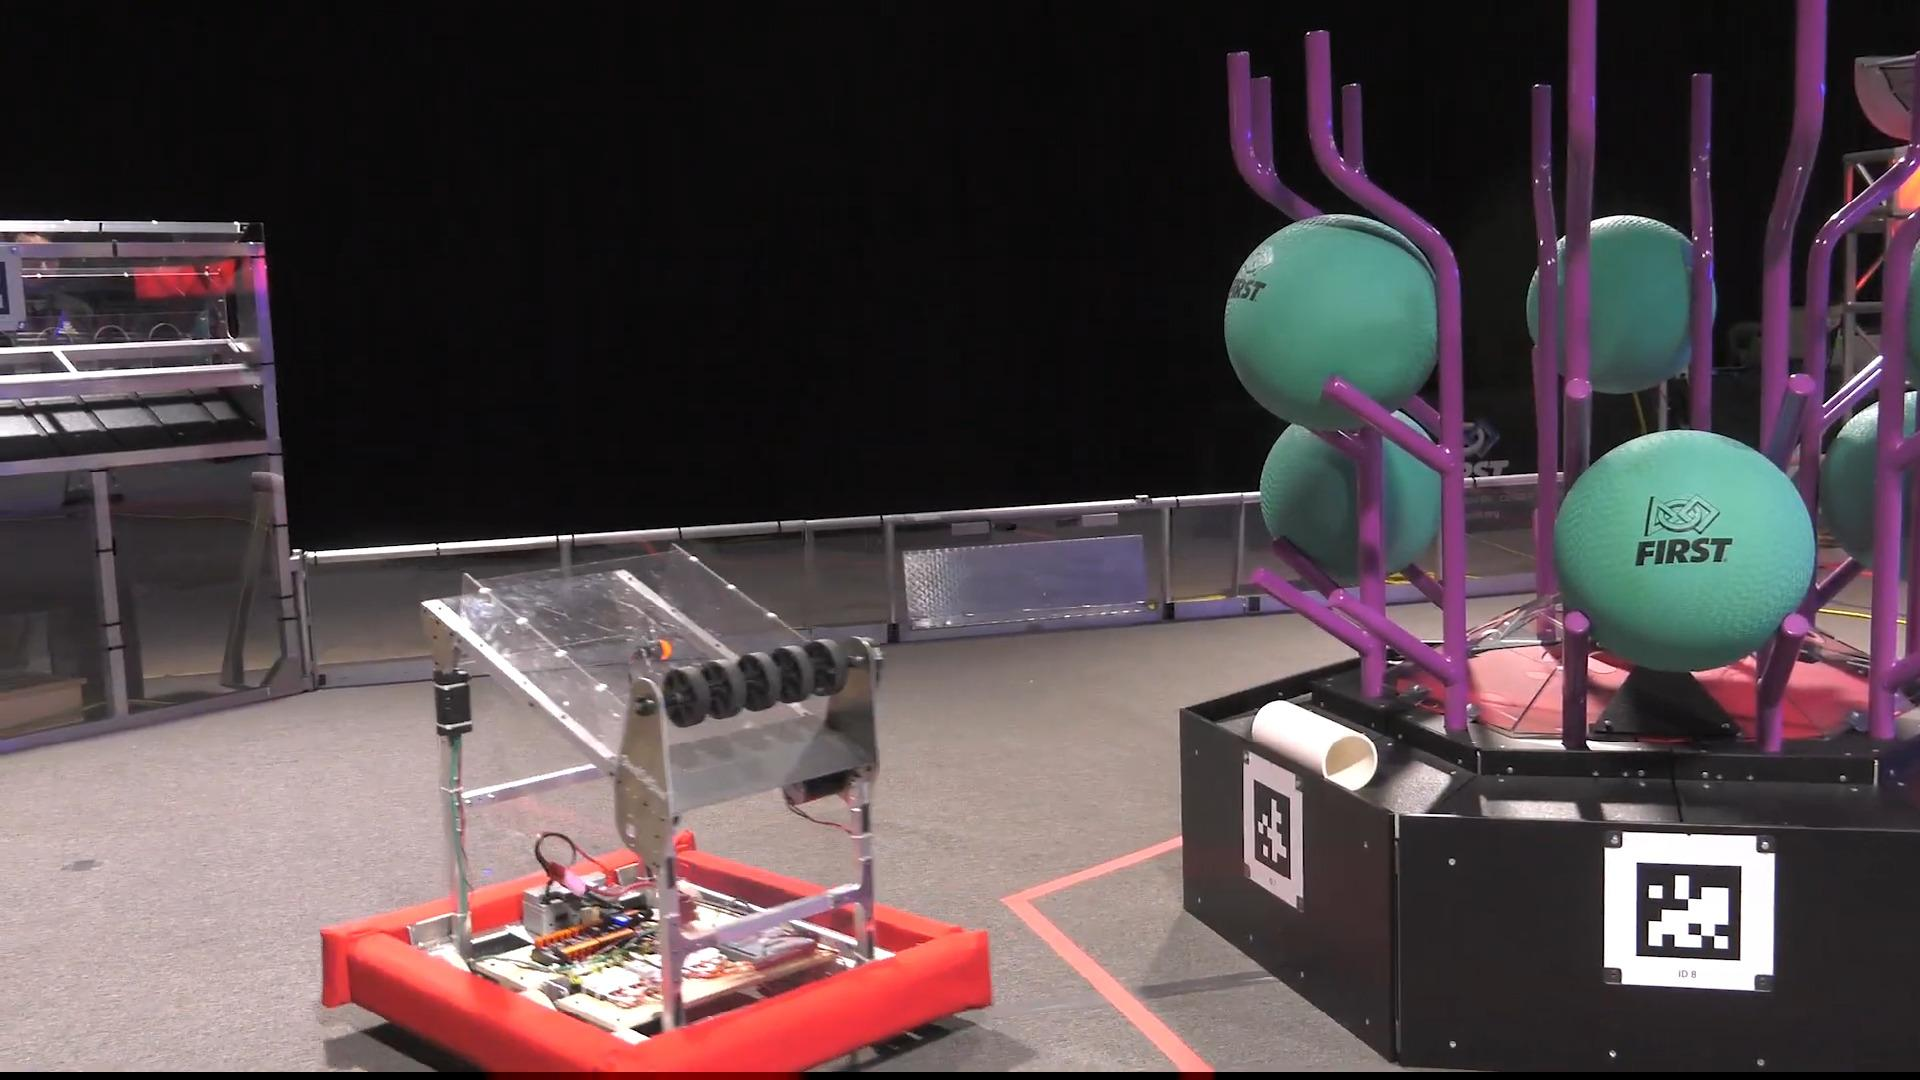coral: (1247, 698, 1378, 793)
